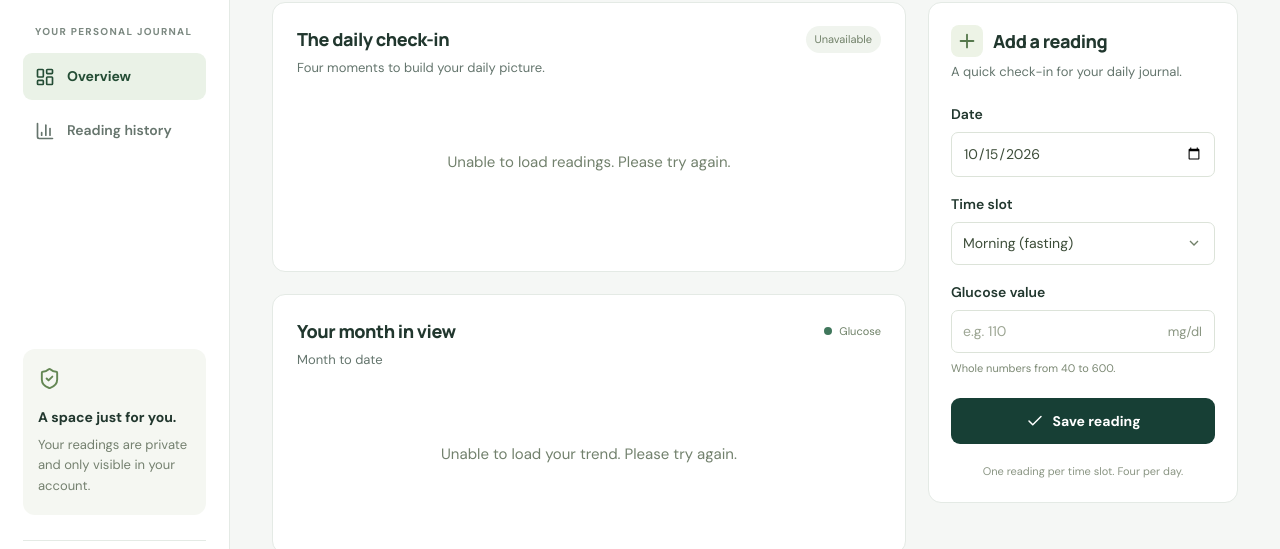
Test: history stays usable when reports fail and reloading reports preserves the draft
(page scrolled)
In the field labelled "Glucose value": [1083, 331] box [951,310,1215,352], type "145"
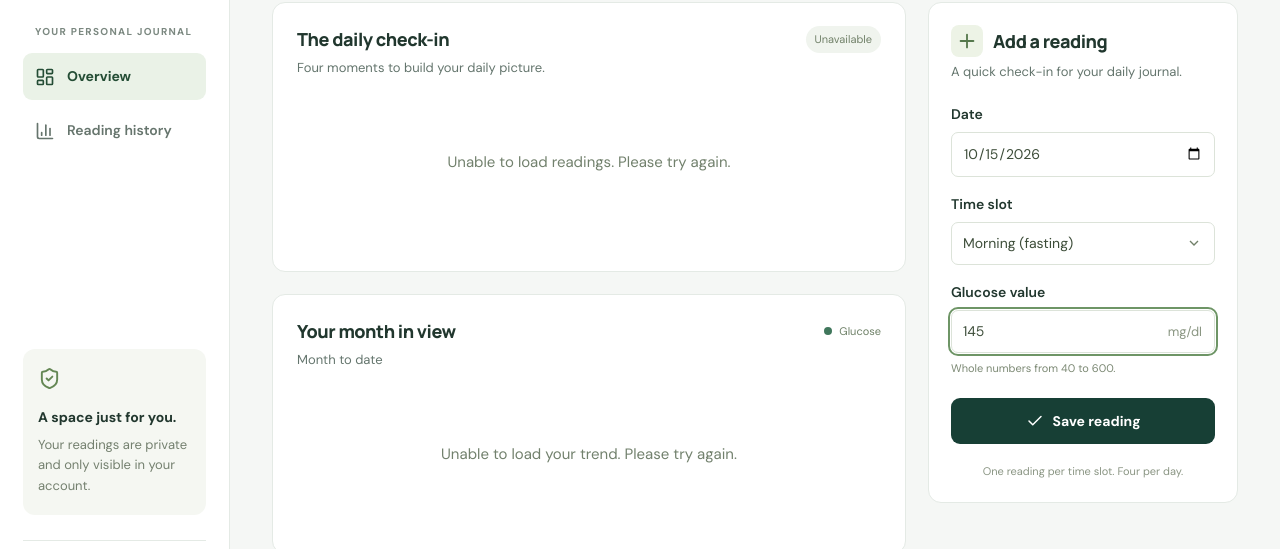
Click the button "Reading history": [114, 130] box [23,106,206,154]
(page scrolled)
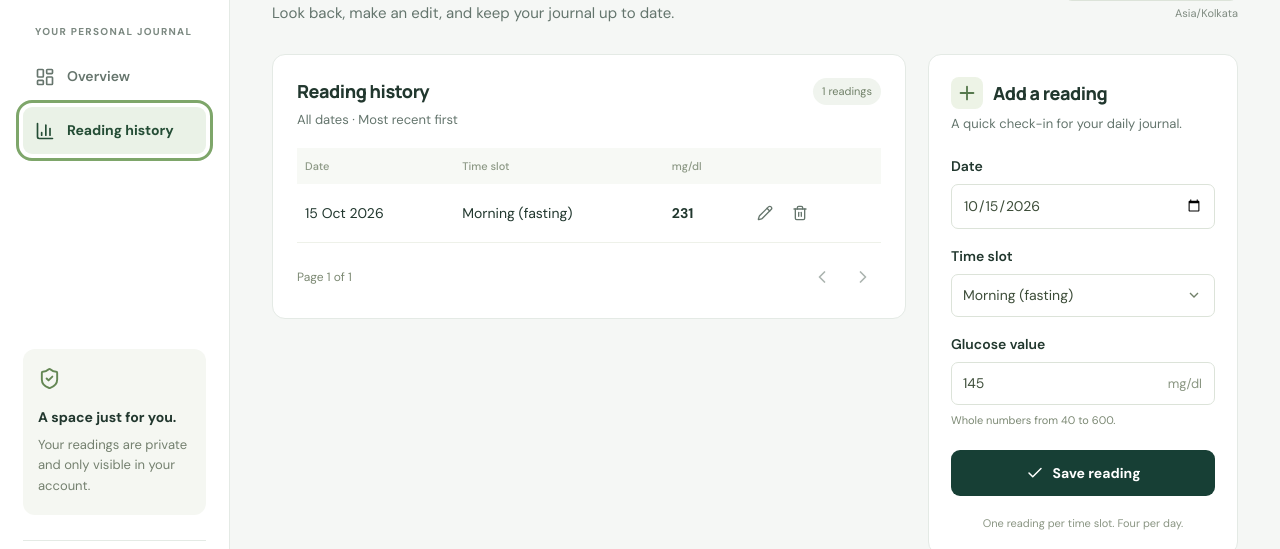
Expected: the table is shown, [297,148,881,243]
Click the button "Overview": [114, 76] box [23,53,206,100]
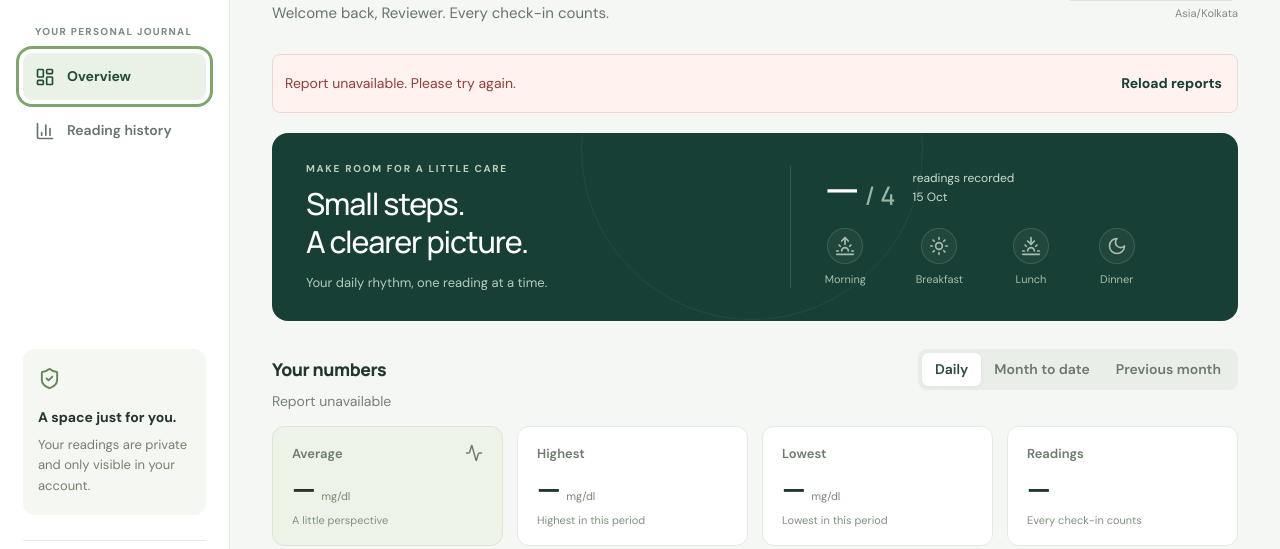
Expected: the message shows "Report unavailable.", [285,74,516,92]
Click the button "Reload reports": [1172, 84] box [1118,67,1225,100]
(page scrolled)
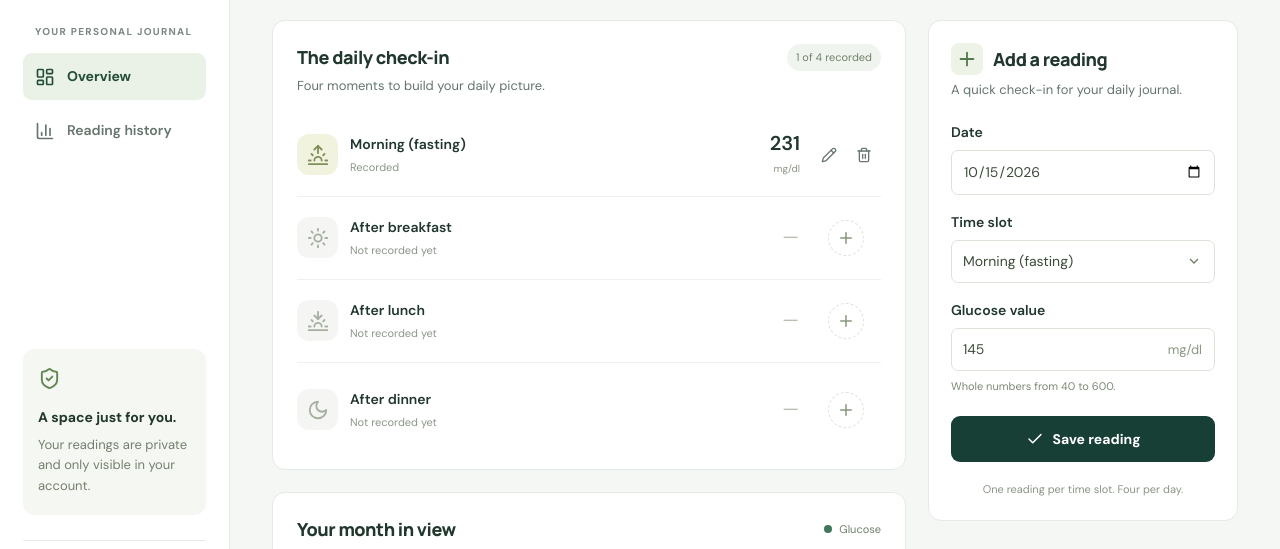
Expected: the dropdown labelled "Time slot" shows "Morning (fasting)", [951,240,1215,282]
Expected: the button named "Edit Morning (fasting) on 15 Oct 2026" is shown, [812,138,846,172]
Expected: the message "Report unavailable. Please try again. Reload reports" is gone
